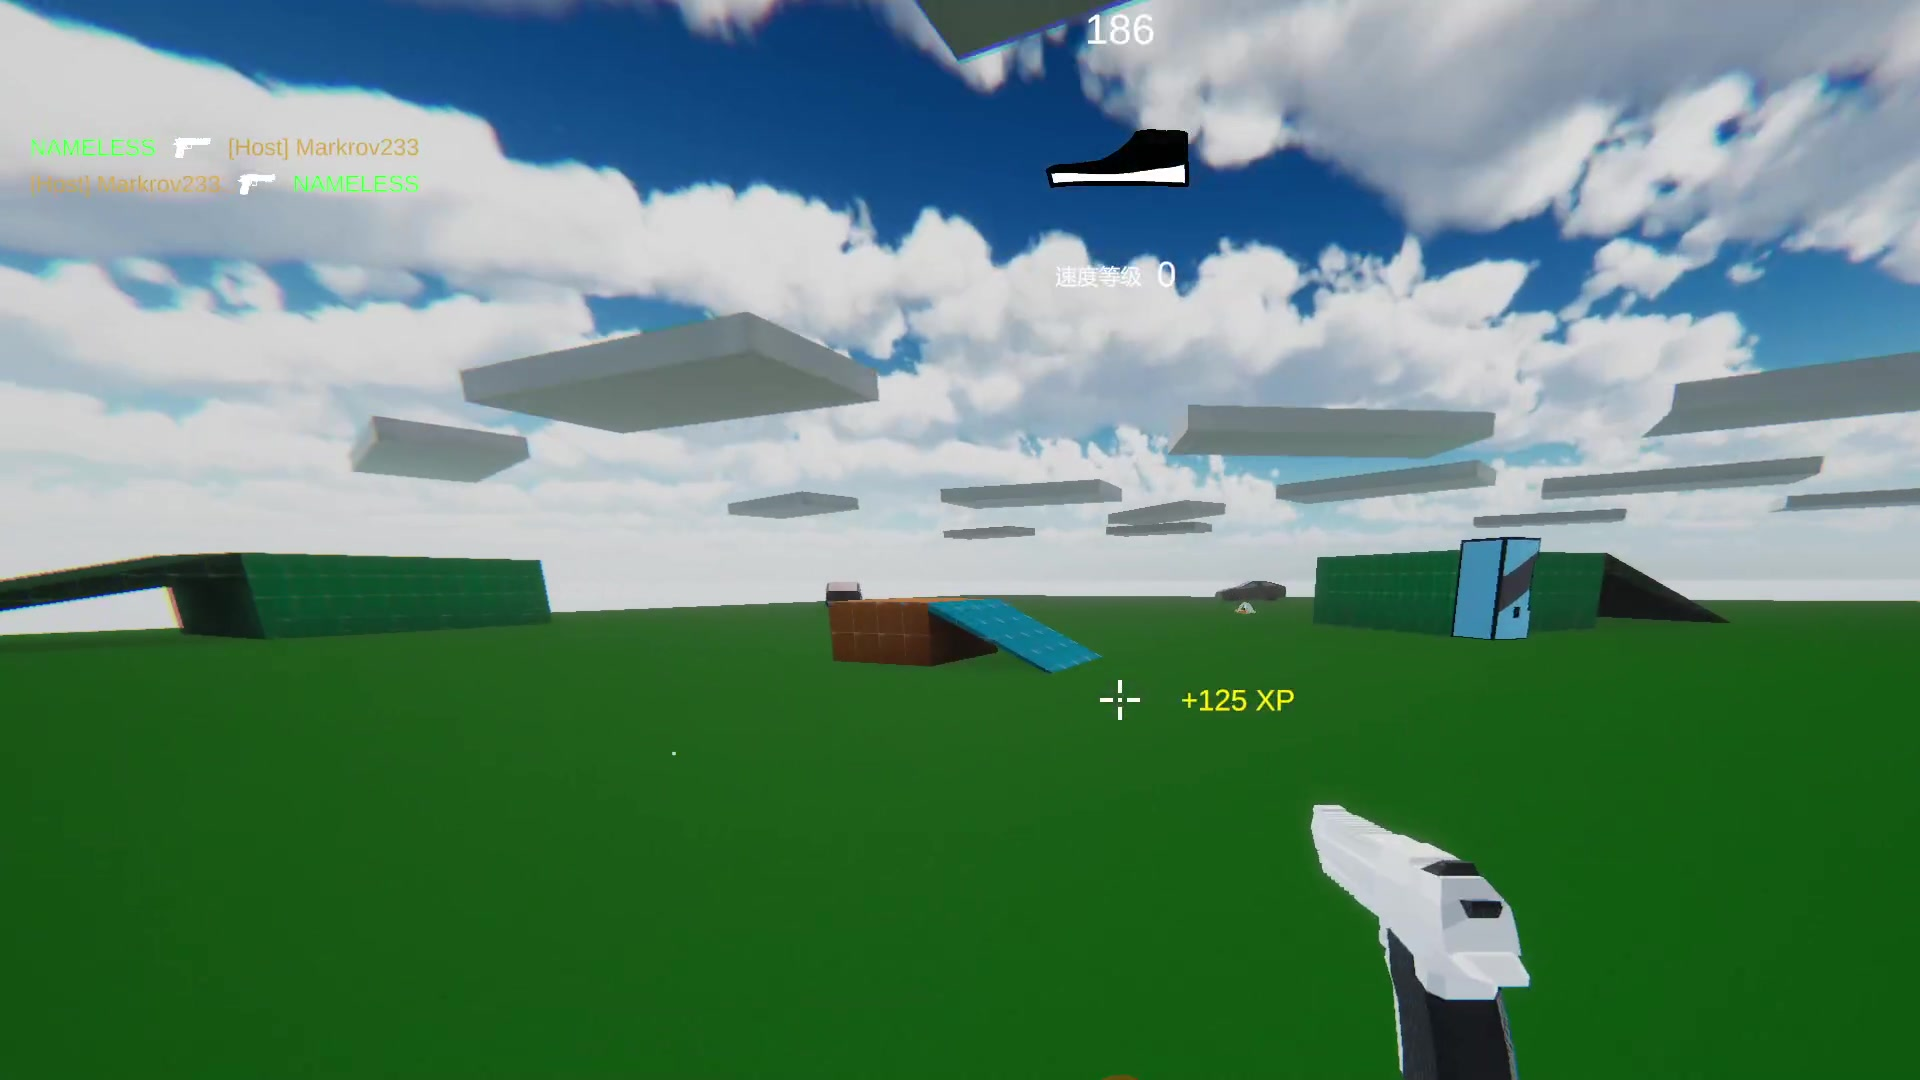died: (1236, 596, 1257, 615)
